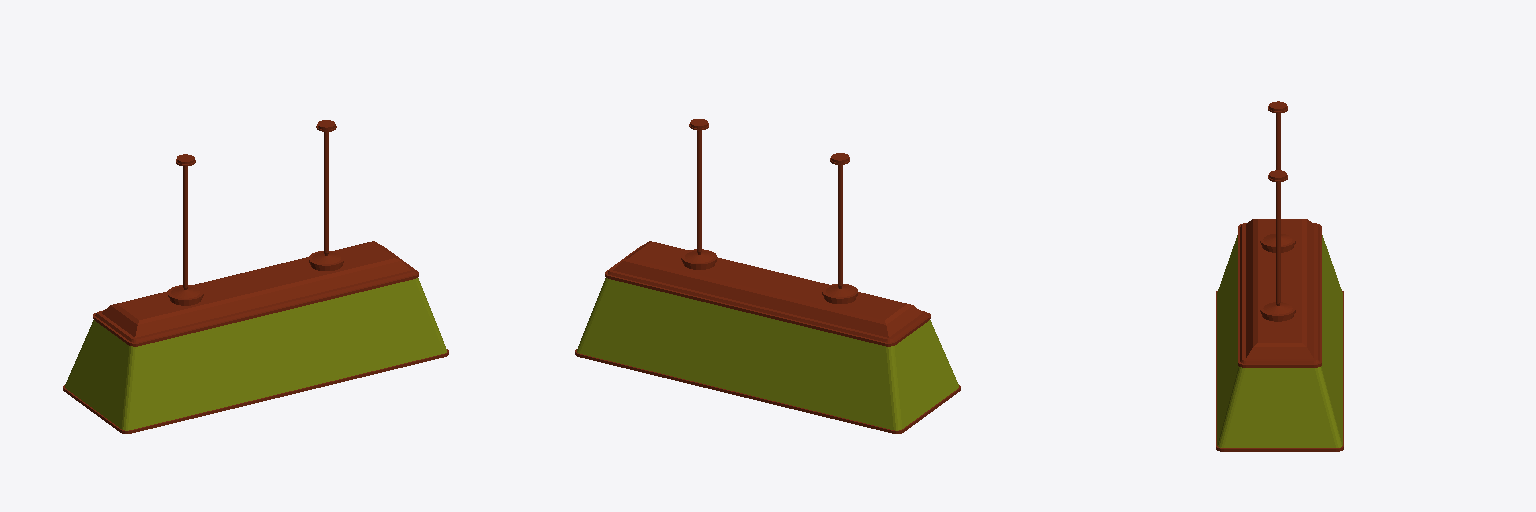
File: lamp.obj
3 renders of one model, left to right at view 1: azimuth 30°, elevation 25°; view 2: azimuth 150°, elevation 25°; view 3: azimuth 270°, elevation 25°, orthographic.
Visible parts, largest first — view 1: Lamp12, Lamp03, Lamp01, Lamp11; view 2: Lamp12, Lamp03, Lamp01, Lamp11; view 3: Lamp12, Lamp03, Lamp01, Lamp11.
Boxes of the visible parts, <box> form: Lamp12: <box>65,278,446,430</box>; Lamp03: <box>93,120,418,343</box>; Lamp01: <box>93,124,418,346</box>; Lamp11: <box>63,349,448,433</box>; Lamp12: <box>577,278,958,430</box>; Lamp03: <box>605,119,930,343</box>; Lamp01: <box>605,123,930,346</box>; Lamp11: <box>575,349,960,433</box>; Lamp12: <box>1217,235,1342,447</box>; Lamp03: <box>1238,101,1321,364</box>; Lamp01: <box>1238,106,1321,367</box>; Lamp11: <box>1216,291,1343,451</box>.
Bounding box in the file's own units: 121 × 81.8 × 41.